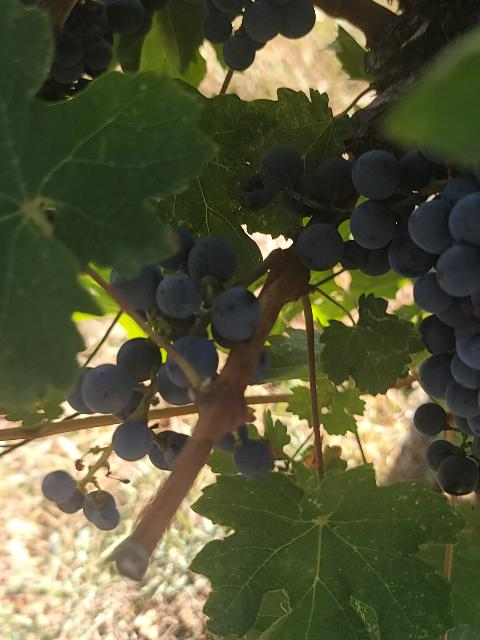grapes: (340, 150, 480, 495), (110, 226, 261, 380), (68, 338, 191, 470)
